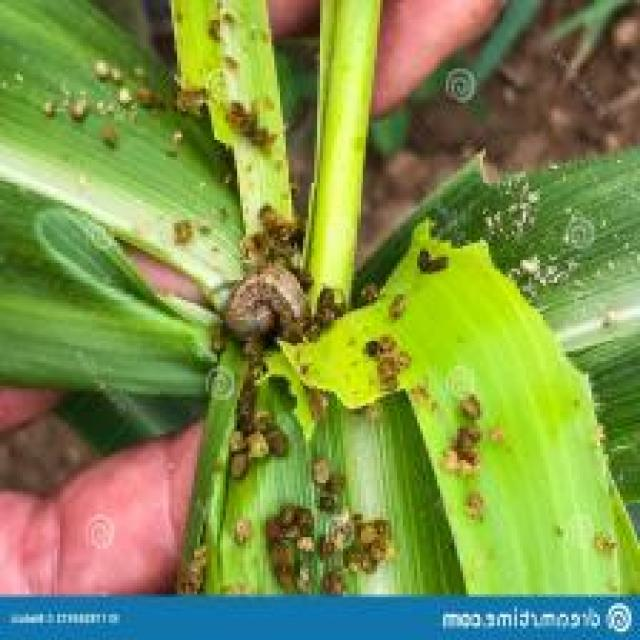Plaga: (217, 240, 314, 357)
